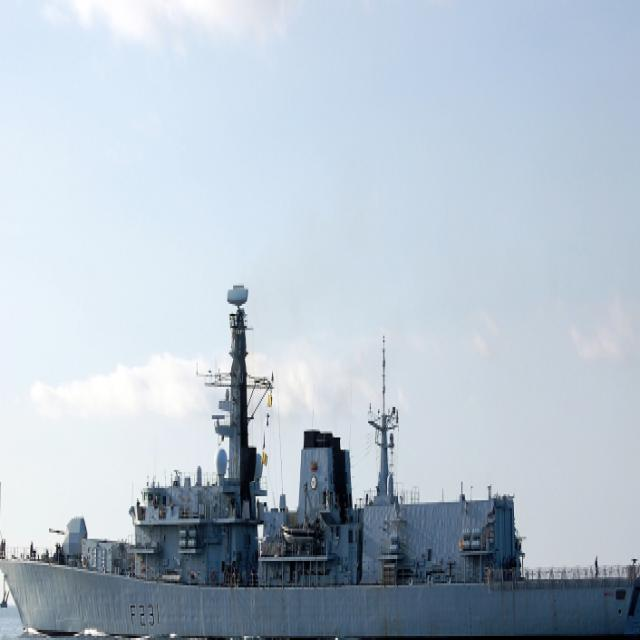Fragata: (1, 280, 640, 640)
